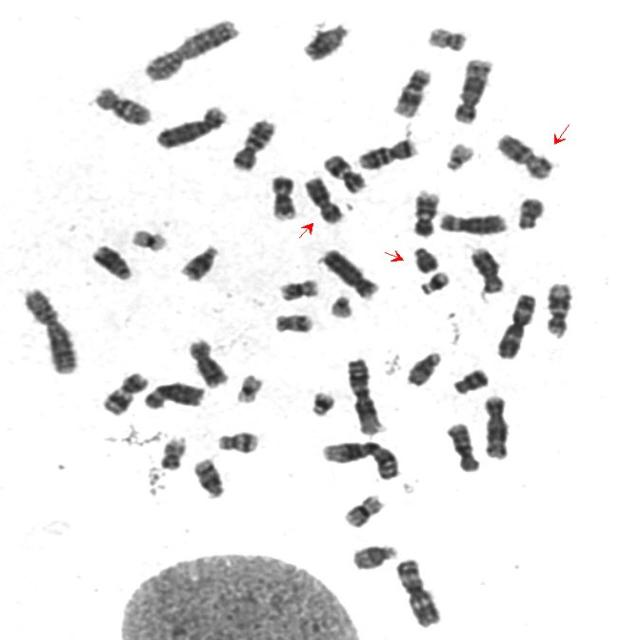A1: (316, 433, 405, 480), (341, 350, 389, 437)
A2: (138, 11, 244, 83), (16, 280, 82, 376)
A3: (390, 552, 446, 628), (491, 287, 540, 359)
B4: (150, 98, 232, 150), (316, 242, 383, 300)
B5: (449, 51, 497, 124), (478, 388, 513, 461)
C10: (89, 79, 156, 127), (441, 415, 485, 473)
C11: (97, 365, 152, 417), (318, 147, 371, 194)
C12: (388, 61, 435, 119), (540, 276, 576, 338)
C6: (139, 375, 209, 410), (434, 206, 512, 236)
C7: (227, 111, 280, 172), (352, 131, 422, 171)
C8: (183, 332, 232, 388), (464, 241, 508, 294)
C9: (408, 183, 444, 238), (265, 168, 301, 221)
D13: (298, 15, 354, 62), (87, 237, 136, 282)
D14: (175, 238, 224, 282), (188, 451, 228, 500)
D15: (401, 344, 445, 388), (348, 537, 401, 571)
E16: (338, 487, 388, 529), (273, 272, 324, 302)
E17: (211, 424, 263, 454), (270, 307, 317, 334)
E18: (448, 361, 492, 395), (512, 190, 548, 230)
F19: (126, 222, 172, 253), (230, 367, 268, 404)
F20: (422, 19, 472, 52), (156, 431, 190, 472)
G21: (414, 265, 454, 296), (305, 383, 340, 418)
G22: (440, 135, 478, 172), (325, 288, 357, 319)
X: (492, 127, 558, 180), (299, 170, 348, 224)
Y: (408, 240, 443, 274)
